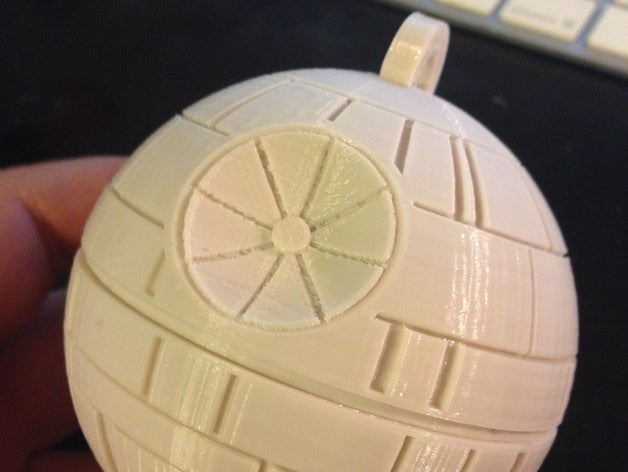Good: (59, 6, 595, 472)
